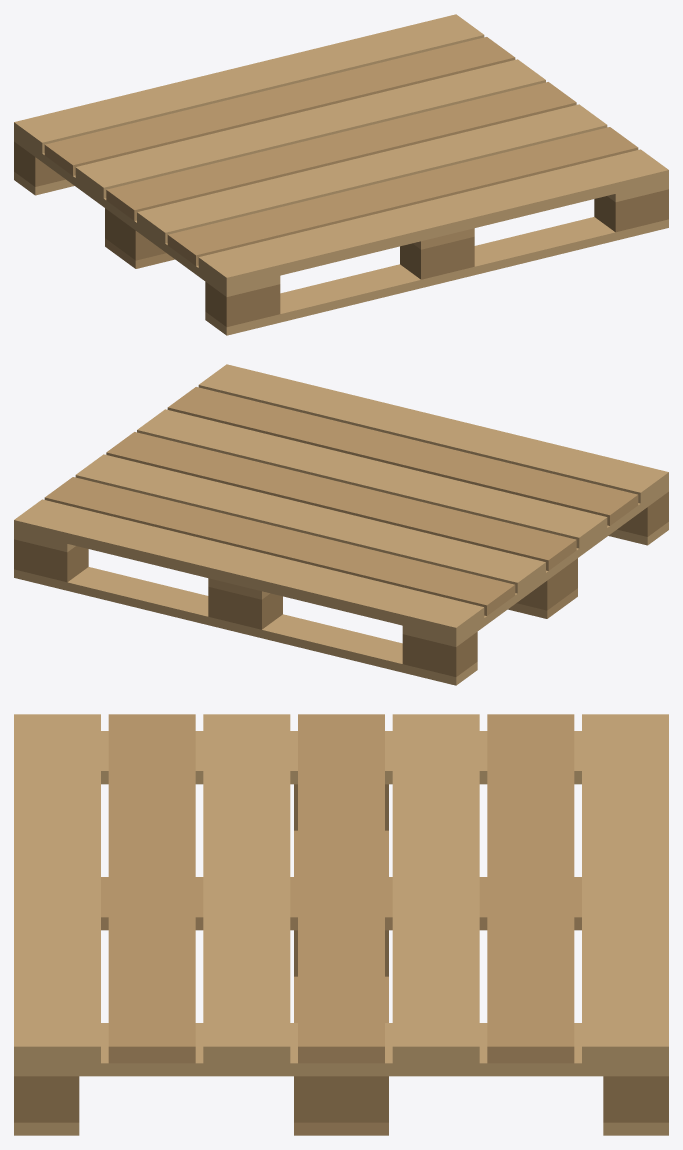
File: pallet-iso1200x1000.glb
3 views of the same model, one above another, from view 1: azimuth 30°, elevation 25°; view 2: azimuth 150°, elevation 25°; view 3: azimuth 270°, elevation 25° (orthographic). The views are drawn at different scales.
Visible parts, largest first — view 1: pallet-iso1200x1000; view 2: pallet-iso1200x1000; view 3: pallet-iso1200x1000.
Part boxes in pixels (x1,y1,x2,y2): pallet-iso1200x1000: (14, 14, 668, 335); pallet-iso1200x1000: (14, 364, 668, 685); pallet-iso1200x1000: (14, 714, 668, 1135).
Size of the model in its own units: 1.2 by 0.15 by 1.
